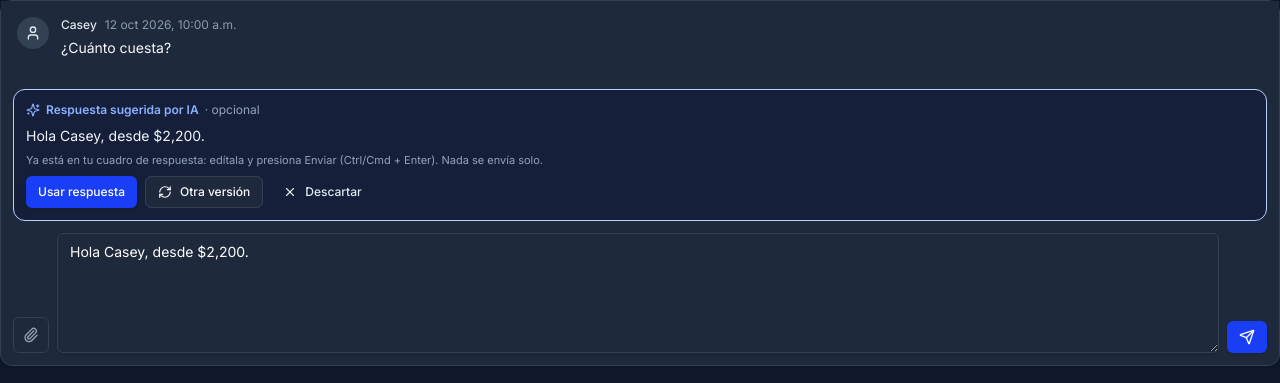
Test: borrador de IA en el hilo › 'Usar respuesta' devuelve la sugerencia al cuadro aunque se haya editado o borrado
The width and height of the screenshot is (1280, 383).
Replace the text in the text box named "Tu respuesta" with "otra cosa" at (638, 293), box left=57, top=233, right=1219, bottom=353
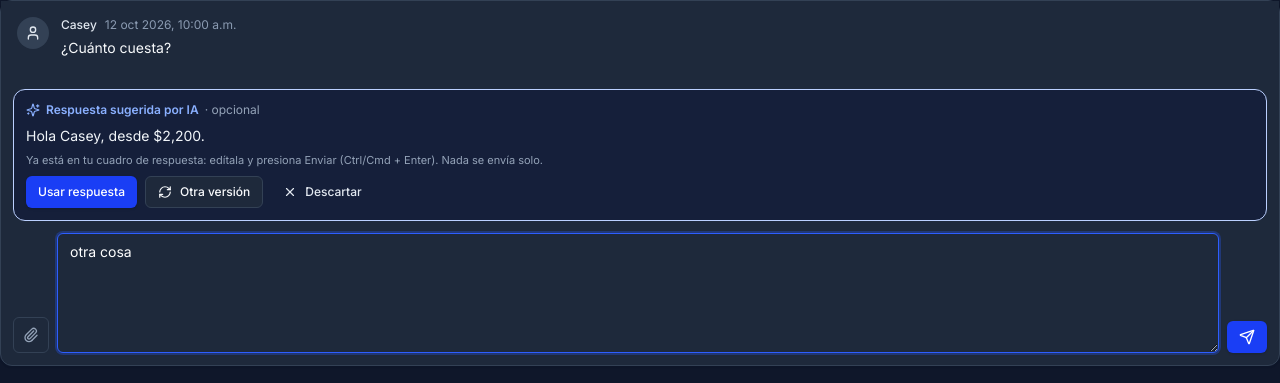
Click the button "Usar respuesta".
click(82, 192)  # box left=26, top=176, right=137, bottom=208
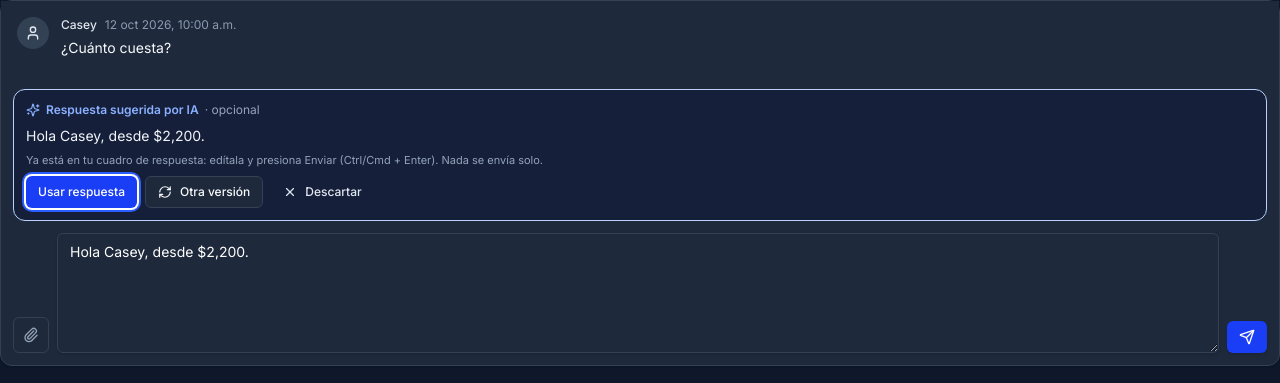
Expected: the text box named "Tu respuesta" holds "Hola Casey, desde $2,200.", left=57, top=233, right=1219, bottom=353
